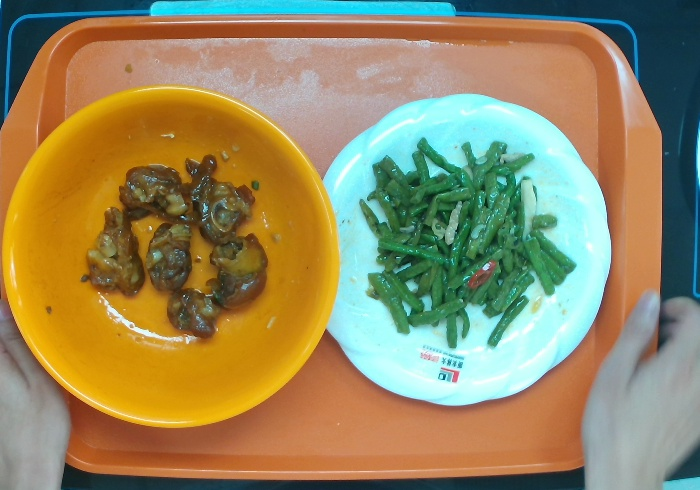ZNLD-Hua_Bian_Wan: (328, 95, 614, 407)
ZNLD-Ju_Se_Tang_Wan: (1, 82, 342, 430)
